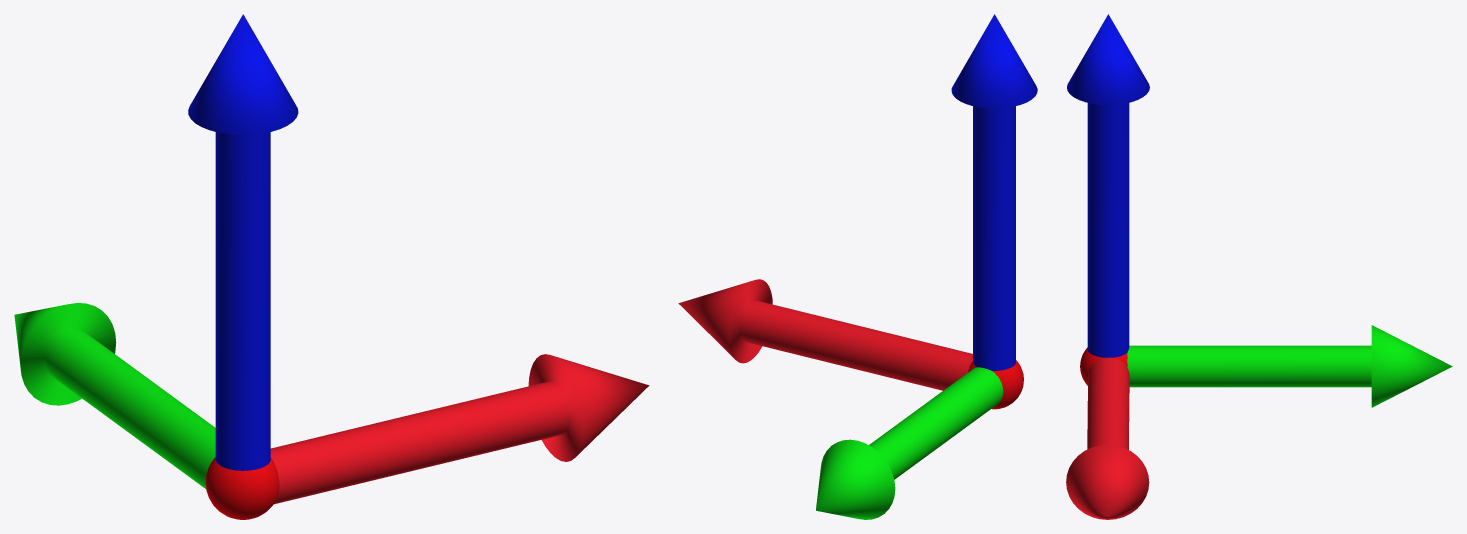
File: XYZaxescentered.glb
The picture shows the model from 3 angles, left to right: view 1: azimuth 30°, elevation 25°; view 2: azimuth 150°, elevation 25°; view 3: azimuth 270°, elevation 25°; orthographic projection. The views are drawn at different scales.
Parts seen in each view (by area): view 1: Cylinder001, Cylinder003, Cylinder002, Sphere; view 2: Cylinder001, Cylinder003, Cylinder002, Sphere; view 3: Cylinder001, Cylinder002, Cylinder003, Sphere.
Boxes of the visible parts, left/top/right/bottom form: Cylinder001: left=188, top=14, right=298, bottom=470; Cylinder003: left=270, top=354, right=649, bottom=504; Cylinder002: left=14, top=303, right=215, bottom=488; Sphere: left=205, top=457, right=279, bottom=519; Cylinder001: left=951, top=14, right=1037, bottom=370; Cylinder003: left=678, top=279, right=972, bottom=390; Cylinder002: left=816, top=367, right=1003, bottom=519; Sphere: left=968, top=360, right=1023, bottom=409; Cylinder001: left=1067, top=14, right=1149, bottom=357; Cylinder002: left=1127, top=325, right=1452, bottom=407; Cylinder003: left=1066, top=357, right=1149, bottom=519; Sphere: left=1080, top=347, right=1127, bottom=385.
Size of the model in its own units: 3.64 by 3.99 by 3.57.
